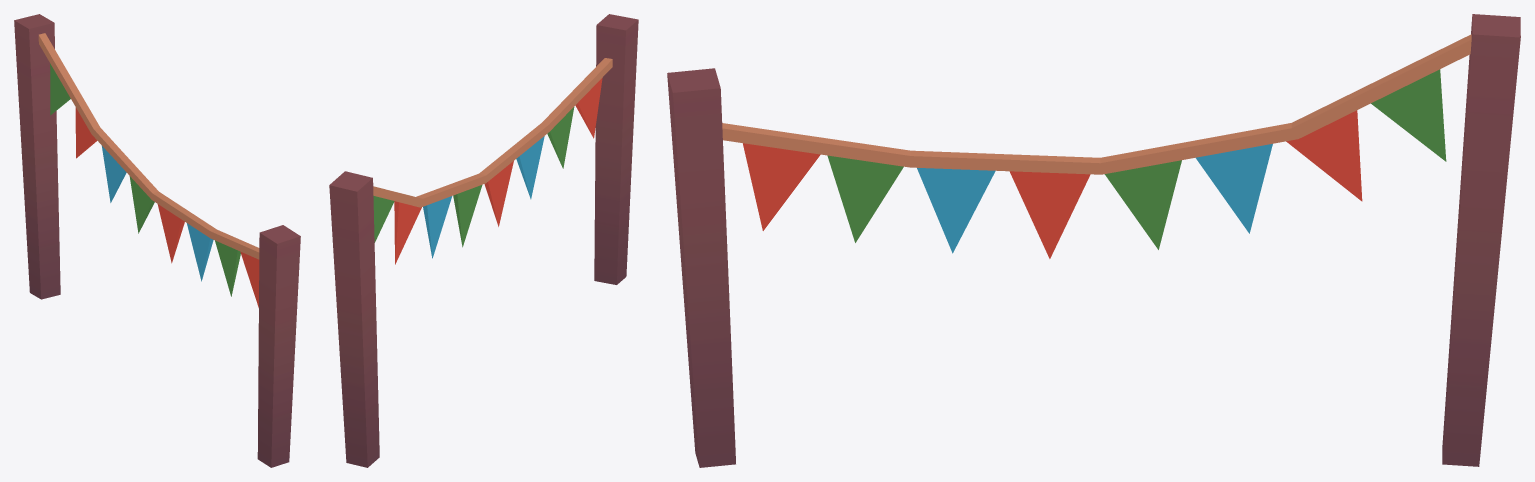
Rendered from village_town_garland.glb.
3 renders of one model, left to right at view 1: azimuth 30°, elevation 25°; view 2: azimuth 150°, elevation 25°; view 3: azimuth 270°, elevation 25°, orthographic. The views are drawn at different scales.
Parts seen in each view (by area): view 1: Garland.001_Material.005_0; view 2: Garland.001_Material.005_0; view 3: Garland.001_Material.005_0.
Part boxes in pixels (<box>): Garland.001_Material.005_0: <box>14,14,300,467</box>; Garland.001_Material.005_0: <box>329,14,638,467</box>; Garland.001_Material.005_0: <box>667,14,1520,467</box>.
Bounding box in the file's own units: 0.2573 × 2.3 × 4.09.
Materials: 1 (1 with a texture image).
